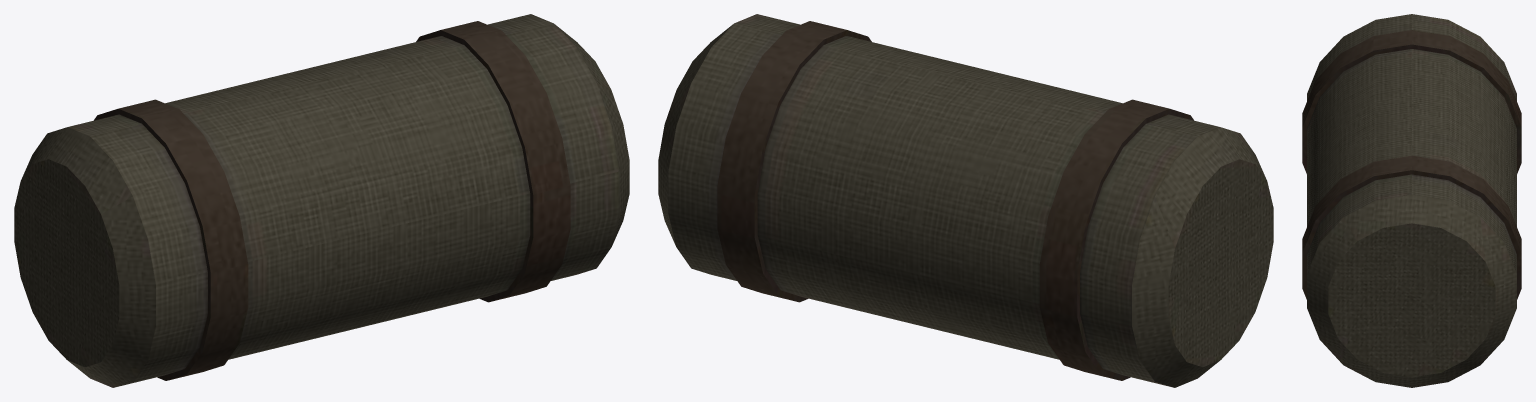
Rendered from explorer_camo_cloak.glb.
3 views of the same model, side by side, from view 1: azimuth 30°, elevation 25°; view 2: azimuth 150°, elevation 25°; view 3: azimuth 270°, elevation 25° (orthographic). The views are drawn at different scales.
Visible parts, largest first — view 1: explorer_camo_cloak; view 2: explorer_camo_cloak; view 3: explorer_camo_cloak.
Part boxes in pixels (<box>): explorer_camo_cloak: <box>14,14,629,387</box>; explorer_camo_cloak: <box>658,14,1273,387</box>; explorer_camo_cloak: <box>1302,14,1521,387</box>.
Size of the model in its own units: 0.2185 by 0.1034 by 0.1018.
1 material, 1 textured.
